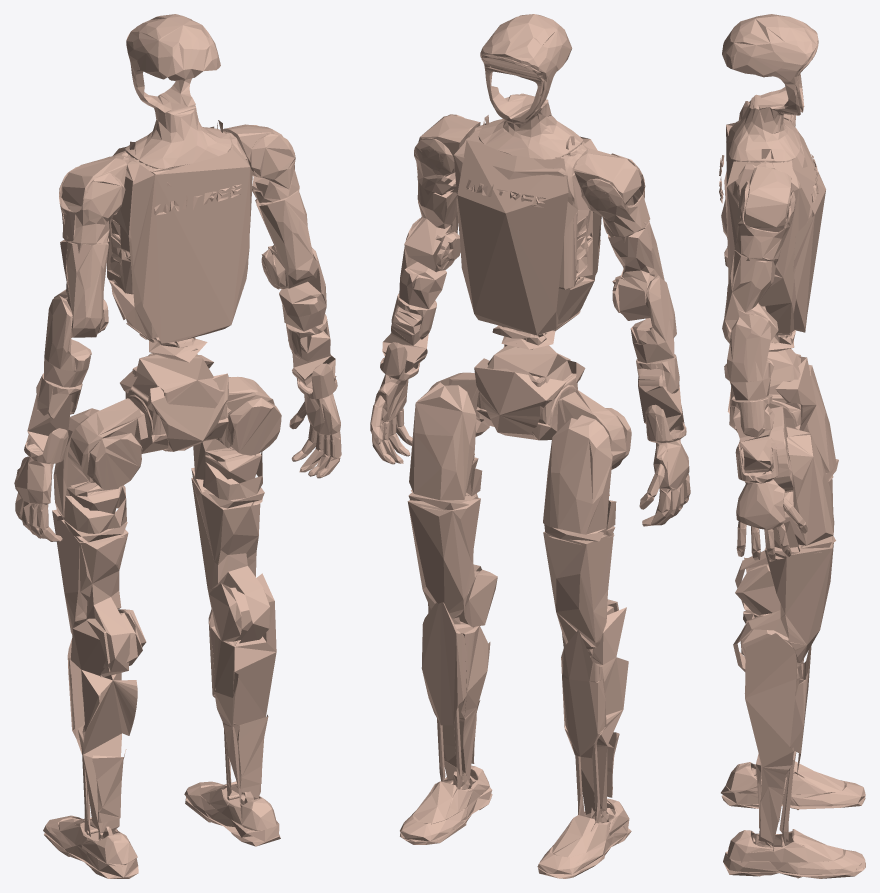
File: jules.glb
3 renders of one model, left to right at view 1: azimuth 30°, elevation 25°; view 2: azimuth 150°, elevation 25°; view 3: azimuth 270°, elevation 25°, orthographic. The views are drawn at different scales.
Parts seen in each view (by area): view 1: part_16, part_18, part_5, part_10, part_11, part_4, part_2, part_0, part_3, part_29, part_21, part_13 (+19 smaller); view 2: part_16, part_18, part_5, part_11, part_10, part_3, part_9, part_4, part_1, part_13, part_7, part_0 (+19 smaller); view 3: part_18, part_11, part_16, part_10, part_13, part_9, part_7, part_34, part_30, part_29, part_27, part_4 (+9 smaller).
Part boxes in pixels (x1=…): part_16: x1=107, y1=120, x2=252, y2=343; part_18: x1=125, y1=14, x2=231, y2=168; part_5: x1=67, y1=620, x2=137, y2=836; part_10: x1=191, y1=467, x2=269, y2=643; part_11: x1=208, y1=573, x2=276, y2=804; part_4: x1=52, y1=509, x2=146, y2=677; part_2: x1=68, y1=398, x2=148, y2=489; part_0: x1=125, y1=354, x2=228, y2=453; part_3: x1=53, y1=408, x2=126, y2=533; part_29: x1=255, y1=190, x2=318, y2=289; part_21: x1=54, y1=239, x2=108, y2=337; part_13: x1=184, y1=781, x2=280, y2=846; part_16: x1=454, y1=115, x2=601, y2=335; part_18: x1=478, y1=14, x2=582, y2=159; part_5: x1=561, y1=607, x2=628, y2=823; part_11: x1=421, y1=602, x2=490, y2=789; part_10: x1=407, y1=492, x2=497, y2=627; part_3: x1=543, y1=415, x2=616, y2=534; part_9: x1=409, y1=382, x2=482, y2=500; part_4: x1=543, y1=524, x2=618, y2=657; part_1: x1=474, y1=344, x2=585, y2=439; part_13: x1=400, y1=765, x2=492, y2=844; part_7: x1=537, y1=798, x2=631, y2=878; part_0: x1=476, y1=345, x2=577, y2=440; part_18: x1=722, y1=14, x2=818, y2=162; part_11: x1=744, y1=633, x2=811, y2=844; part_16: x1=724, y1=119, x2=825, y2=335; part_10: x1=733, y1=536, x2=835, y2=671; part_13: x1=723, y1=829, x2=865, y2=878; part_9: x1=773, y1=426, x2=834, y2=548; part_7: x1=721, y1=761, x2=865, y2=809; part_34: x1=736, y1=479, x2=807, y2=561; part_30: x1=724, y1=314, x2=774, y2=400; part_29: x1=722, y1=250, x2=778, y2=343; part_27: x1=744, y1=167, x2=791, y2=231; part_4: x1=735, y1=459, x2=838, y2=615.
Size of the model in its own units: 0.5224 by 1.32 by 0.216.
